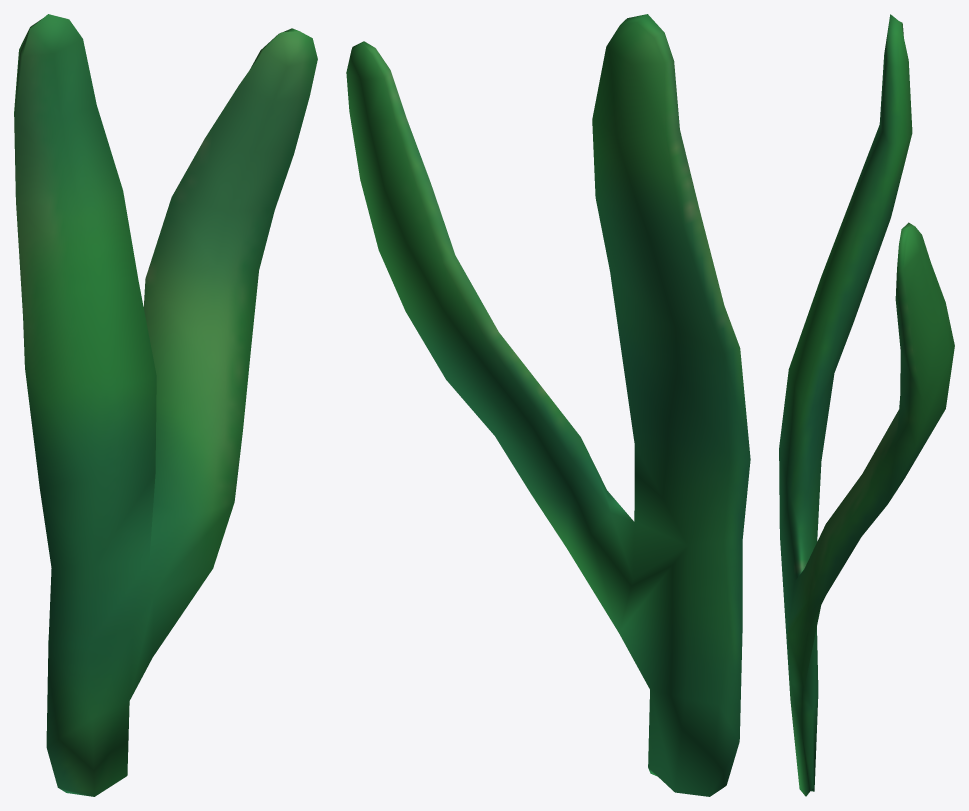
The model's file is seaweed2.fbx.
The picture shows the model from 3 angles, left to right: view 1: azimuth 30°, elevation 25°; view 2: azimuth 150°, elevation 25°; view 3: azimuth 270°, elevation 25°; orthographic projection. The views are drawn at different scales.
Parts seen in each view (by area): view 1: seaweed2; view 2: seaweed2; view 3: seaweed2.
Boxes of the visible parts, x1,y1,x2,y2 form: seaweed2: (14, 14, 317, 796); seaweed2: (346, 14, 750, 796); seaweed2: (779, 14, 954, 796).
Size of the model in its own units: 75.97 by 167 by 34.32.
